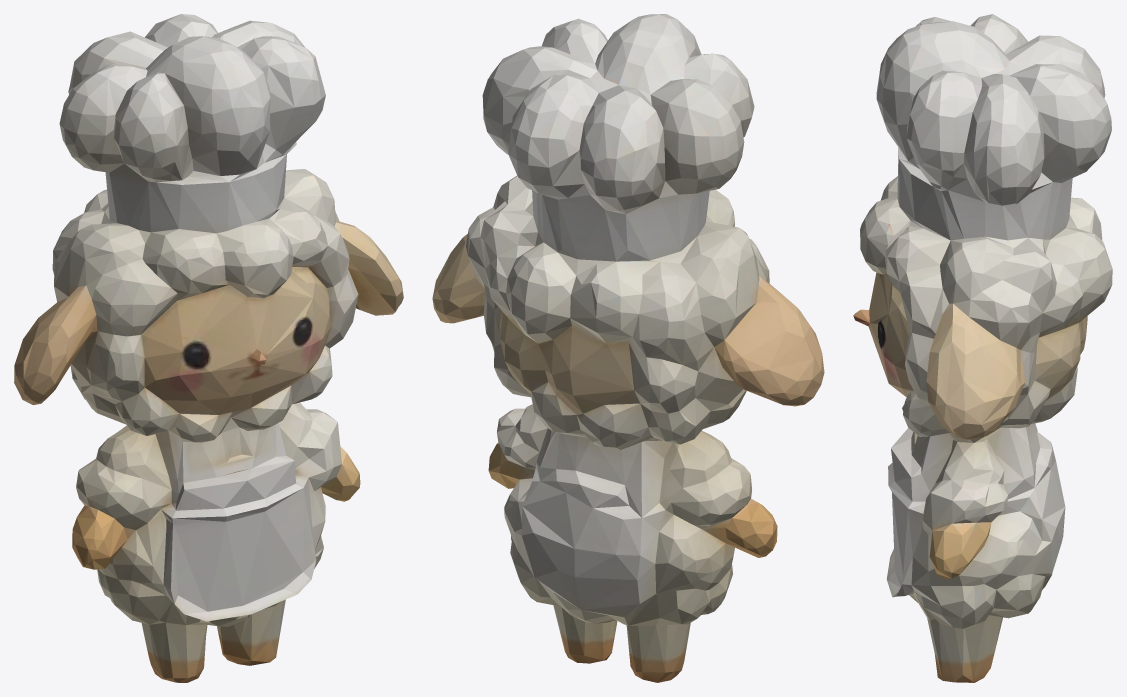
File: mongmong.glb
3 renders of one model, left to right at view 1: azimuth 30°, elevation 25°; view 2: azimuth 150°, elevation 25°; view 3: azimuth 270°, elevation 25°, orthographic. The views are drawn at different scales.
Visible parts, largest first — view 1: geometry_0; view 2: geometry_0; view 3: geometry_0.
Part boxes in pixels (left/top/right/bottom): geometry_0: left=14, top=14, right=403, bottom=682; geometry_0: left=432, top=14, right=824, bottom=682; geometry_0: left=853, top=14, right=1112, bottom=682.
Size of the model in its own units: 0.6216 by 0.9976 by 0.3758.
Materials: 1 (1 with a texture image).
